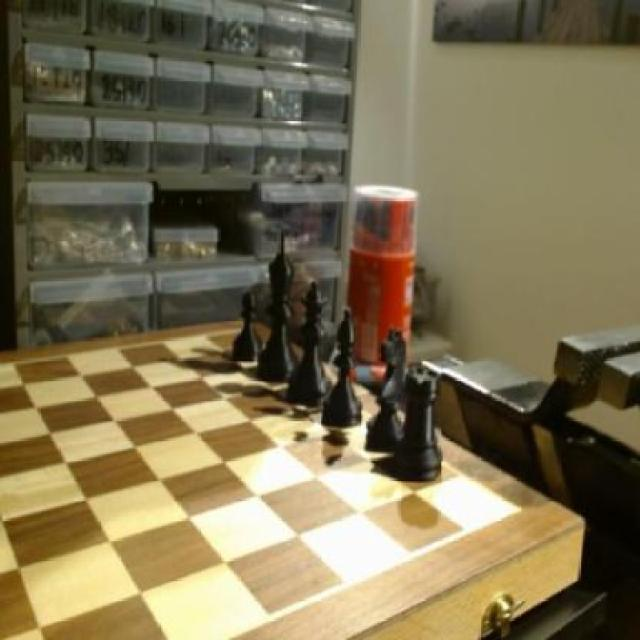bishop: (323, 306, 365, 432)
black-bishop: (263, 228, 302, 386)
black-king: (372, 326, 407, 447)
black-knight: (236, 292, 266, 365)
black-pawn: (291, 282, 334, 410)
black-queen: (396, 364, 446, 480)
